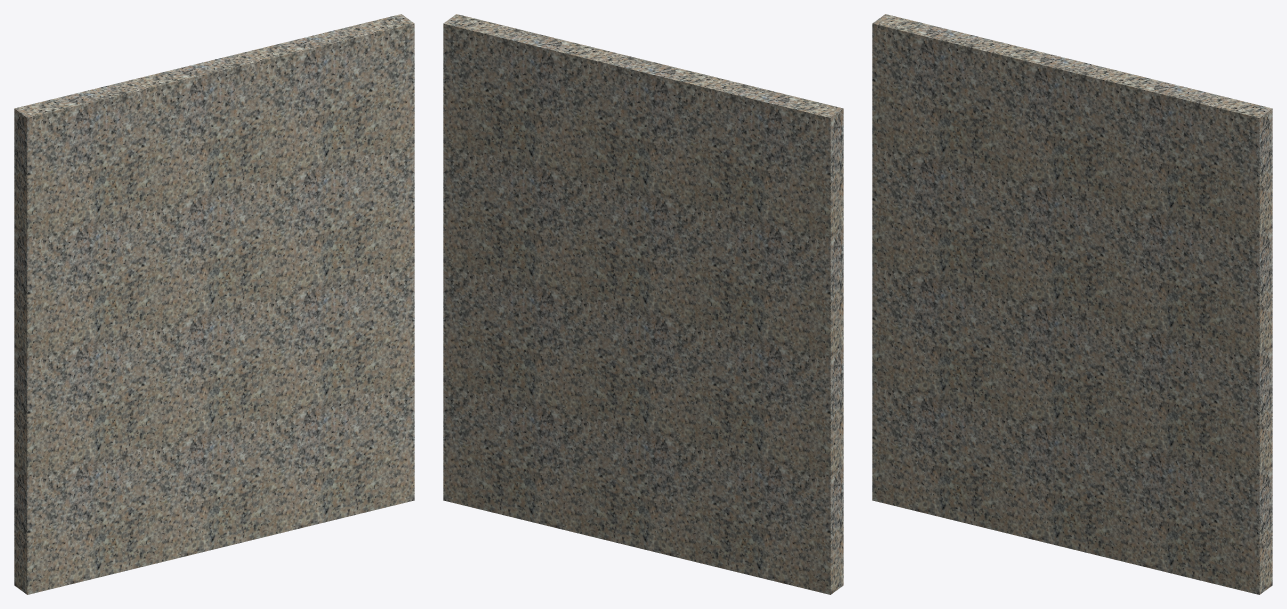
The model's file is Lobby_Wall_03.obj.
3 views of the same model, side by side, from view 1: azimuth 30°, elevation 25°; view 2: azimuth 150°, elevation 25°; view 3: azimuth 330°, elevation 25° (orthographic).
Parts seen in each view (by area): view 1: Lobby_Wall_03; view 2: Lobby_Wall_03; view 3: Lobby_Wall_03.
Part boxes in pixels (x1,y1,x2,y2): Lobby_Wall_03: (14,14,414,594); Lobby_Wall_03: (443,14,843,594); Lobby_Wall_03: (872,14,1272,594).
Bounding box in the file's own units: 3.4 × 4 × 0.2.
1 material, 1 textured.
